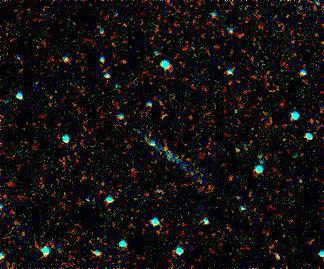star: (150, 132, 180, 162)
